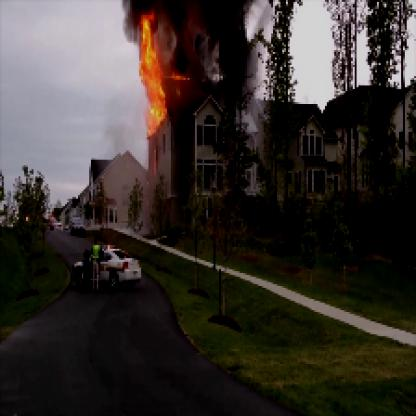Fire: (135, 20, 197, 138)
Smoke: (167, 2, 260, 83)
